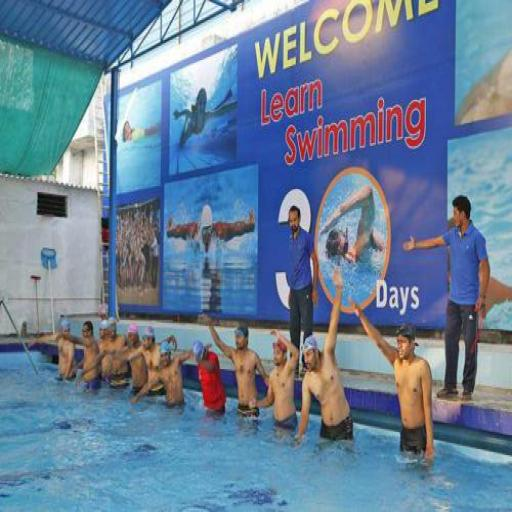swimming: (400, 192, 492, 404), (347, 294, 437, 466), (293, 264, 356, 449), (202, 312, 271, 423), (282, 203, 322, 377), (249, 326, 301, 440), (129, 337, 195, 412), (190, 337, 228, 423)
